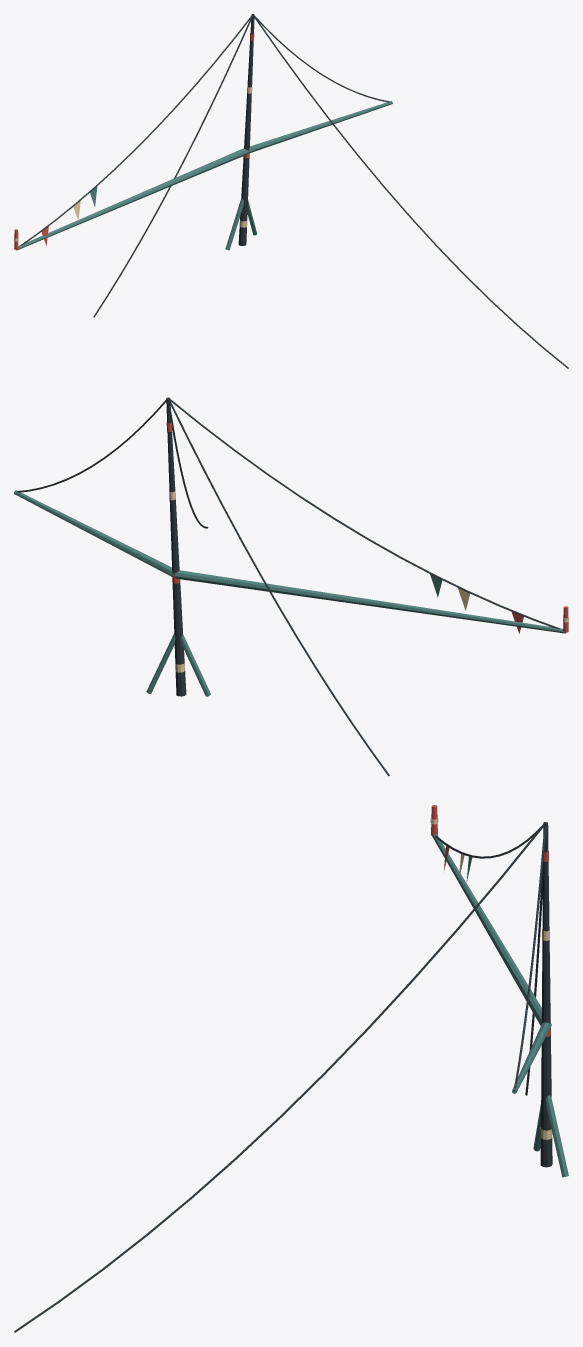
Rendered from SignalYard.gltf.
3 views of the same model, one above another, from view 1: azimuth 30°, elevation 25°; view 2: azimuth 150°, elevation 25°; view 3: azimuth 270°, elevation 25° (orthographic). The views are drawn at different scales.
Visible parts, largest first — view 1: Raking stays, Radio yard, Survey mast; view 2: Radio yard, Raking stays, Survey mast, Root braces; view 3: Raking stays, Survey mast, Radio yard, Root braces.
Part boxes in pixels (x1=…): Raking stays: x1=20, y1=14, x2=568, y2=368; Radio yard: x1=16, y1=101, x2=392, y2=250; Survey mast: x1=238, y1=14, x2=254, y2=245; Radio yard: x1=14, y1=490, x2=565, y2=633; Raking stays: x1=17, y1=397, x2=560, y2=776; Survey mast: x1=166, y1=397, x2=186, y2=696; Root braces: x1=146, y1=633, x2=210, y2=696; Raking stays: x1=14, y1=822, x2=546, y2=1332; Survey mast: x1=540, y1=822, x2=552, y2=1167; Radio yard: x1=432, y1=834, x2=551, y2=1093; Root braces: x1=533, y1=1095, x2=568, y2=1177.
Size of the model in its own units: 9.27 by 5.57 by 6.94.
